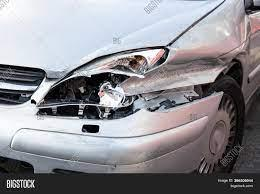Headlight-Damage: (29, 33, 234, 123)
